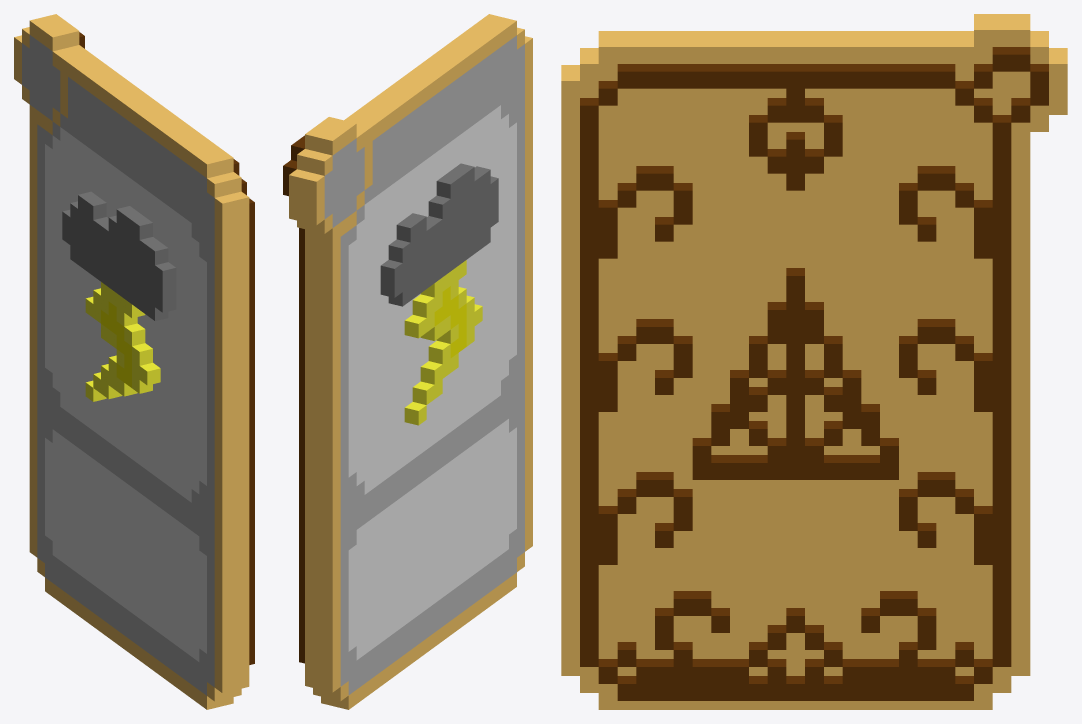
Rendered from Pilipala3.obj.
3 views of the same model, side by side, from view 1: azimuth 30°, elevation 25°; view 2: azimuth 150°, elevation 25°; view 3: azimuth 270°, elevation 25° (orthographic). The views are drawn at different scales.
Bounding box in the file's own units: 0.4 × 4 × 2.7.
Materials: 1 (1 with a texture image).
